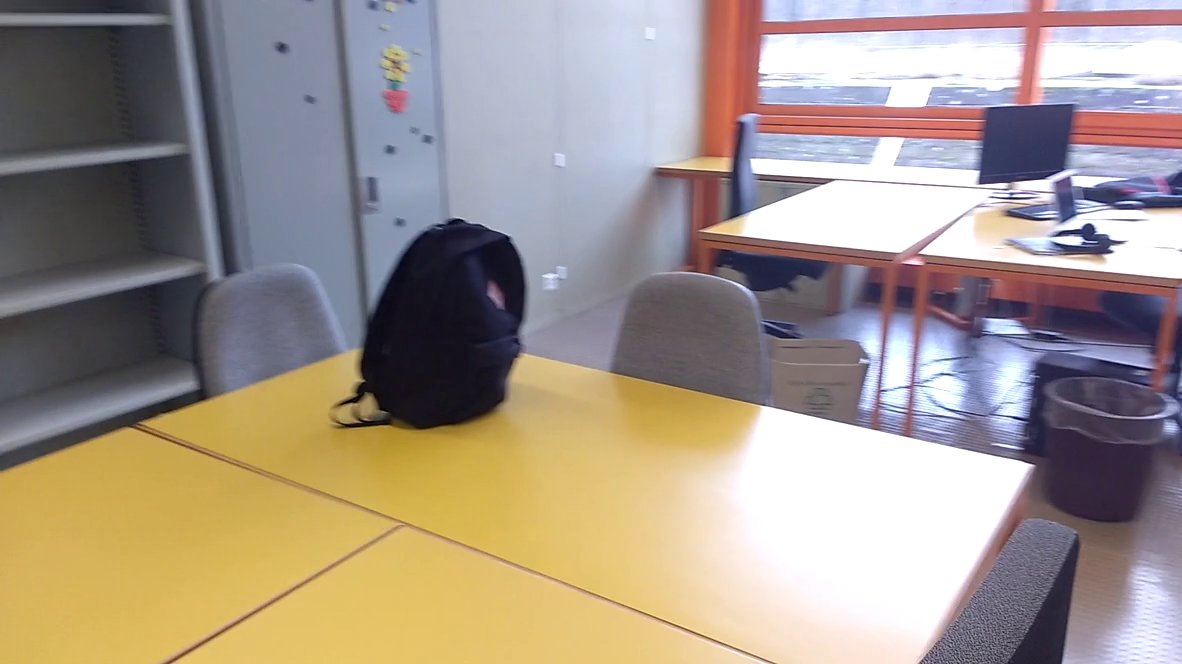bag: (324, 213, 533, 433)
bin: (1036, 373, 1182, 534)
box: (753, 322, 889, 434)
chair: (695, 103, 831, 378), (590, 264, 787, 438), (180, 253, 355, 404)
